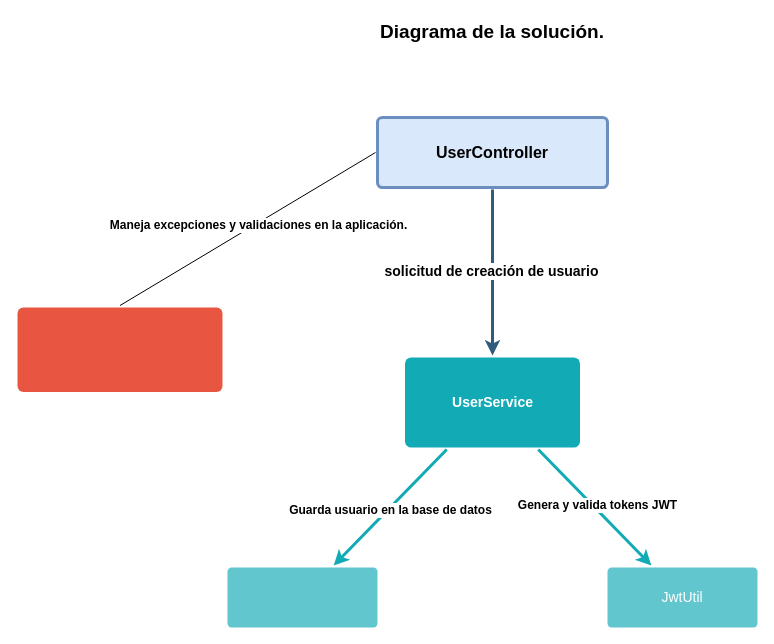
This 774x644 diagram has some shape labels left out. Each missing label, with the centre of its shape:
"GlobalExceptionHandler" goes at point (119, 349).
"UserRepository" goes at point (302, 597).
